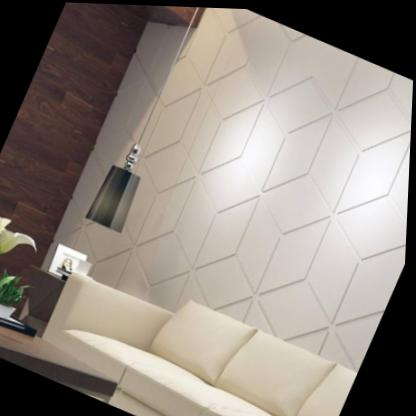Futech tiles: (108, 4, 416, 360)
